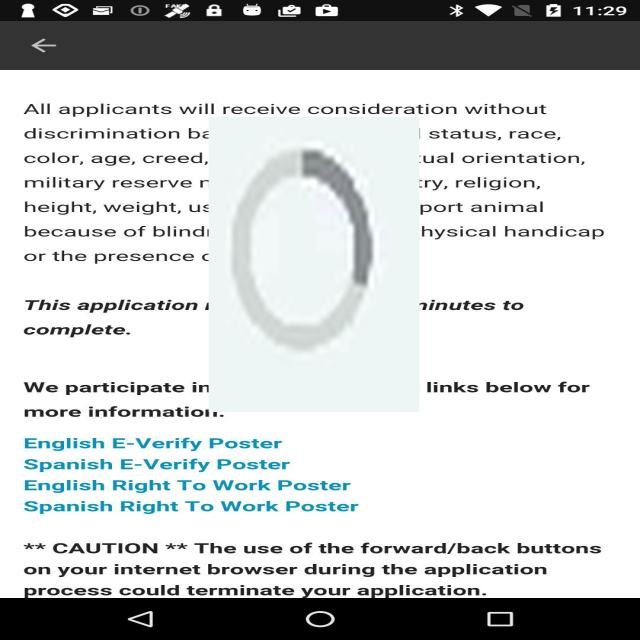misdirection: (208, 117, 420, 412)
